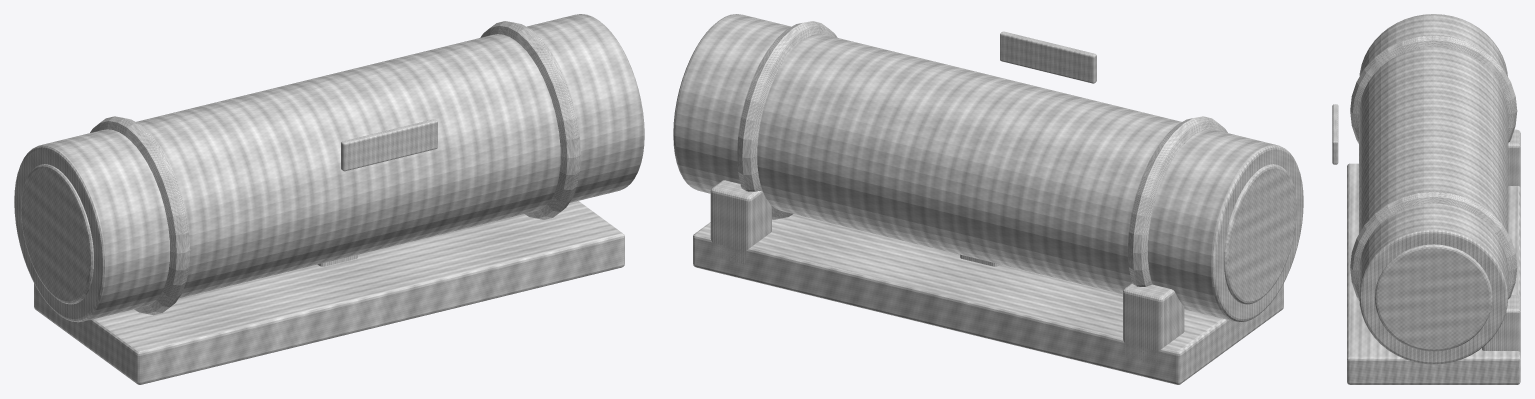
File: hypertube_variant_d.glb
The picture shows the model from 3 angles, left to right: view 1: azimuth 30°, elevation 25°; view 2: azimuth 150°, elevation 25°; view 3: azimuth 270°, elevation 25°; orthographic projection. The views are drawn at different scales.
Parts seen in each view (by area): view 1: Tube section.003, Foundation.003, Tube inner bore.003, Tube reinforcement ring.007, Tube reinforcement ring.006, Asset ID plate; view 2: Tube section.003, Foundation.003, Tube inner bore.003, Tube reinforcement ring.007, Tube reinforcement ring.006, Service foot.006, Service foot.007, Asset ID plate; view 3: Tube section.003, Tube inner bore.003, Foundation.003, Tube reinforcement ring.007, Tube reinforcement ring.006, Service foot.007, Service foot.006, Asset ID plate.
Boxes of the visible parts, left/top/right/bottom form: Tube section.003: left=14, top=14, right=644, bottom=322; Foundation.003: left=34, top=201, right=624, bottom=384; Tube inner bore.003: left=21, top=164, right=93, bottom=304; Tube reinforcement ring.007: left=480, top=21, right=580, bottom=219; Tube reinforcement ring.006: left=90, top=116, right=190, bottom=315; Asset ID plate: left=341, top=119, right=437, bottom=171; Tube section.003: left=673, top=14, right=1303, bottom=322; Foundation.003: left=693, top=214, right=1283, bottom=384; Tube inner bore.003: left=1224, top=164, right=1296, bottom=304; Tube reinforcement ring.007: left=737, top=21, right=837, bottom=219; Tube reinforcement ring.006: left=1127, top=116, right=1227, bottom=286; Service foot.006: left=1123, top=283, right=1184, bottom=365; Service foot.007: left=710, top=180, right=771, bottom=264; Asset ID plate: left=1000, top=31, right=1096, bottom=83; Tube section.003: left=1359, top=14, right=1508, bottom=364; Tube inner bore.003: left=1374, top=244, right=1492, bottom=351; Foundation.003: left=1347, top=163, right=1520, bottom=384; Tube reinforcement ring.007: left=1350, top=191, right=1517, bottom=300; Tube reinforcement ring.006: left=1350, top=35, right=1517, bottom=143; Service foot.007: left=1482, top=295, right=1520, bottom=352; Service foot.006: left=1508, top=129, right=1520, bottom=186; Asset ID plate: left=1332, top=104, right=1338, bottom=164.
Size of what is drawn, in the model's own units: 4.04 by 1.51 by 1.46.
Materials: 6 (6 with a texture image).
